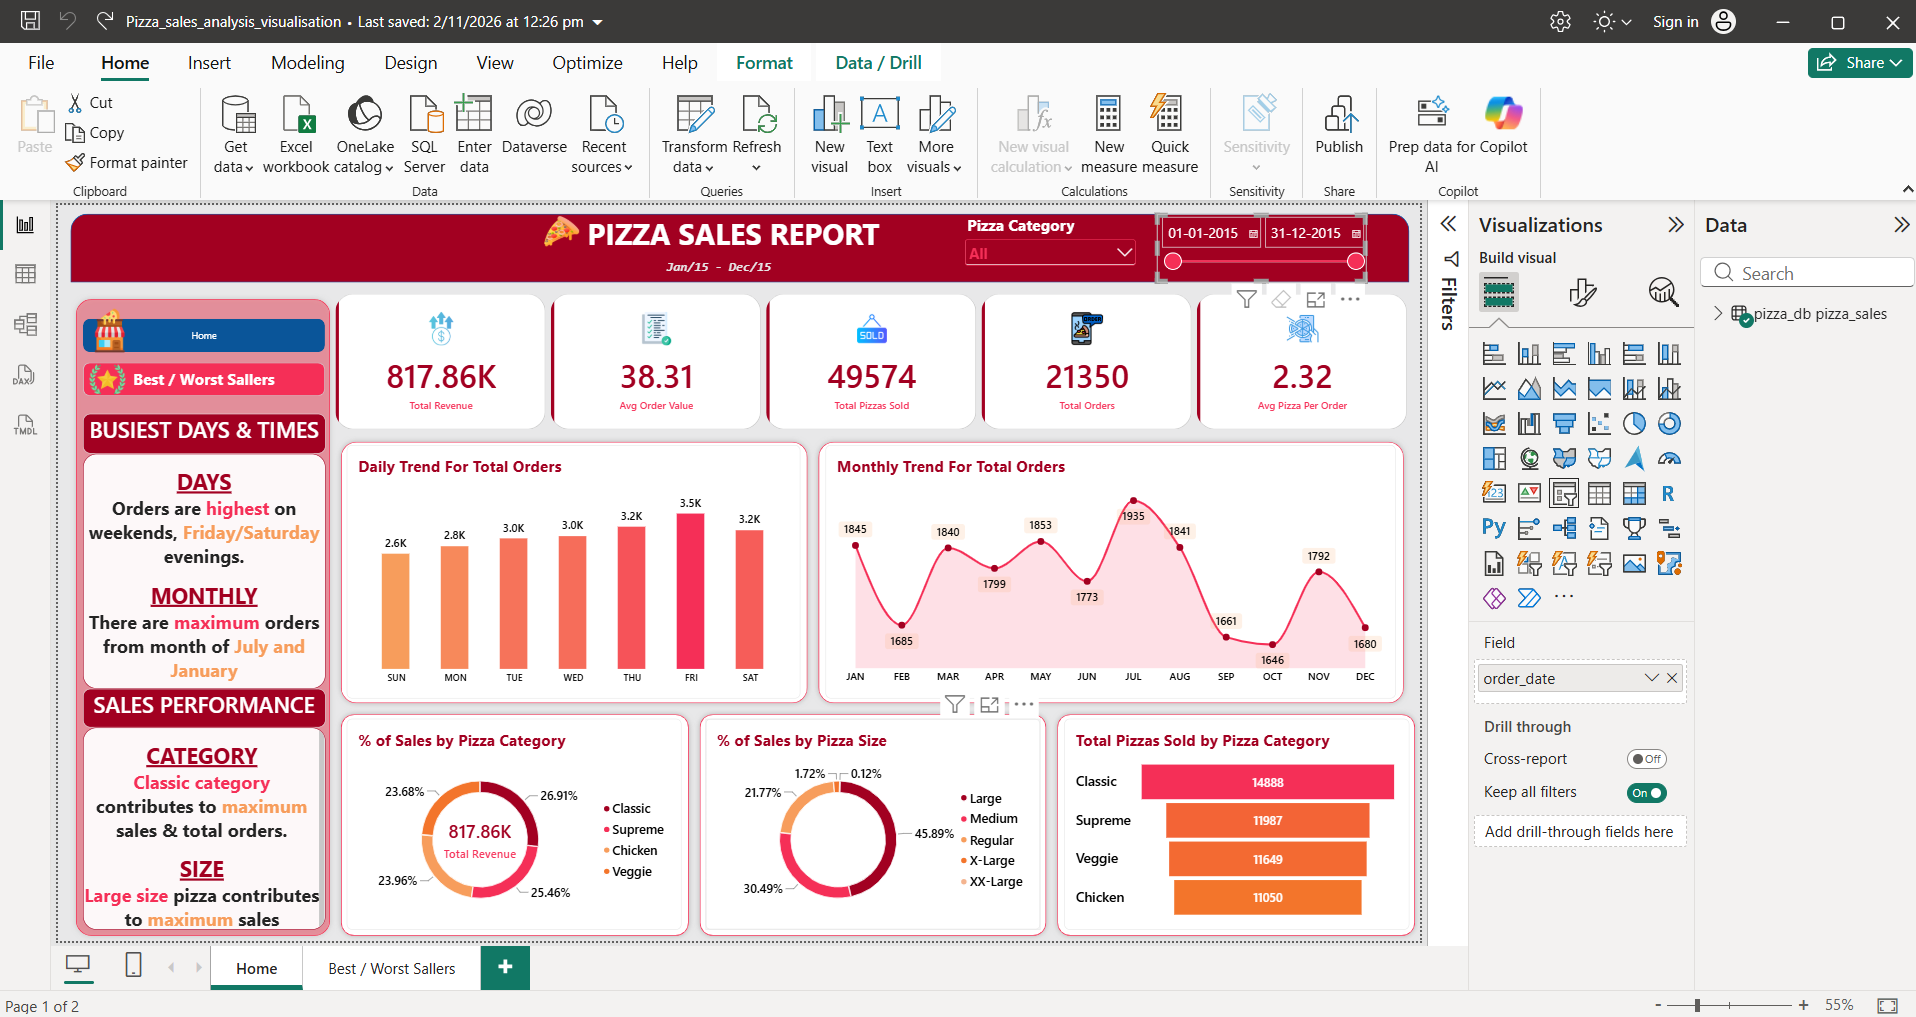

The dashboard page shown, as its layout file describes it:
{"tool":"powerbi","page":{"name":"Home","canvas":[2000,1080],"ordinal":0},"visuals":[{"type":"shape","box":[18.3,130.2,388.9,950.1],"z":0},{"type":"cardVisual","fields":{"Data":["pizza_db pizza_sales.Total Revenue","pizza_db pizza_sales.Avg Order Value","pizza_db pizza_sales.Total Pizzas Sold","pizza_db pizza_sales.Total Orders","pizza_db pizza_sales.Avg Pizza Per Order"]},"box":[407.2,130.2,1575.6,199.9],"z":1000},{"type":"shape","box":[18.3,12.8,1964.5,100.9],"z":2000},{"type":"textbox","box":[770.4,12.8,442.1,67.9],"z":3000},{"type":"textbox","box":[891.4,80.7,155.9,33],"z":4000},{"type":"image","box":[682.3,12.8,113.7,51.4],"z":5000},{"type":"shape","box":[407.2,339.3,700.7,399.9],"z":6000},{"type":"columnChart","title":"Daily Trend For Total Orders","fields":{"Category":["pizza_db pizza_sales.Order Day"],"Y":["pizza_db pizza_sales.Total Orders"]},"box":[423.7,352.2,665.8,372.4],"z":7000},{"type":"shape","box":[1107.9,339.3,874.9,399.9],"z":8000},{"type":"areaChart","title":"Monthly Trend For Total Orders","fields":{"Category":["pizza_db pizza_sales.Order Month"],"Y":["pizza_db pizza_sales.Total Orders"]},"box":[1126.2,352.2,836.4,372.4],"z":9000},{"type":"shape","box":[407.2,739.2,526.4,341.2],"z":10000},{"type":"shape","box":[933.6,739.2,524.6,341.2],"z":11000},{"type":"shape","box":[1458.2,739.2,541.1,341.2],"z":12000},{"type":"donutChart","title":"% of Sales by Pizza Category","fields":{"Category":["pizza_db pizza_sales.pizza_category"],"Y":["pizza_db pizza_sales.Total Revenue"]},"box":[423.7,753.9,491.6,310],"z":13000},{"type":"donutChart","title":"% of Sales by Pizza Size","fields":{"Category":["pizza_db pizza_sales.pizza_size"],"Y":["pizza_db pizza_sales.Total Revenue"]},"box":[950.1,753.9,491.6,310],"z":14000},{"type":"funnel","title":"Total Pizzas Sold by Pizza Category","fields":{"Category":["pizza_db pizza_sales.pizza_category"],"Y":["pizza_db pizza_sales.Total Pizzas Sold"]},"box":[1476.6,753.9,506.3,310],"z":15000},{"type":"textbox","box":[36.7,306.3,355.8,58.7],"z":16000},{"type":"textbox","box":[36.7,365,355.8,344.8],"z":17000},{"type":"textbox","box":[36.7,709.9,355.8,56.9],"z":18000},{"type":"textbox","box":[36.7,766.7,355.8,297.1],"z":19000},{"type":"slicer","fields":{"Values":["pizza_db pizza_sales.pizza_category"]},"box":[1326.2,12.8,260.5,100.9],"z":20000},{"type":"slicer","fields":{"Values":["pizza_db pizza_sales.order_date"]},"box":[1612.3,12.8,308.2,100.9],"z":21000},{"type":"pageNavigator","box":[36.7,166.9,355.8,49.5],"z":22000},{"type":"pageNavigator","box":[36.7,231.1,355.8,49.5],"z":23000},{"type":"image","box":[36.7,152.2,78.9,64.2],"z":24000},{"type":"image","box":[29.3,229.3,86.2,53.2],"z":25000}]}

Visuals, with their boxes on the page's 2000x1080 design canvas (x1, y1, x2, y2). These are canvas units, not pixel positions in the 1916x1017 screenshot, which may show the page scaled, cropped or inside an application window:
shape: bbox(18, 130, 407, 1080)
cardVisual - pizza_db pizza_sales.Total Revenue x pizza_db pizza_sales.Avg Order Value: bbox(407, 130, 1983, 330)
shape: bbox(18, 13, 1983, 114)
textbox: bbox(770, 13, 1212, 81)
textbox: bbox(891, 81, 1047, 114)
image: bbox(682, 13, 796, 64)
shape: bbox(407, 339, 1108, 739)
"Daily Trend For Total Orders" columnChart: bbox(424, 352, 1090, 725)
shape: bbox(1108, 339, 1983, 739)
"Monthly Trend For Total Orders" areaChart: bbox(1126, 352, 1963, 725)
shape: bbox(407, 739, 934, 1080)
shape: bbox(934, 739, 1458, 1080)
shape: bbox(1458, 739, 1999, 1080)
"% of Sales by Pizza Category" donutChart: bbox(424, 754, 915, 1064)
"% of Sales by Pizza Size" donutChart: bbox(950, 754, 1442, 1064)
"Total Pizzas Sold by Pizza Category" funnel: bbox(1477, 754, 1983, 1064)
textbox: bbox(37, 306, 392, 365)
textbox: bbox(37, 365, 392, 710)
textbox: bbox(37, 710, 392, 767)
textbox: bbox(37, 767, 392, 1064)
slicer - pizza_db pizza_sales.pizza_category: bbox(1326, 13, 1587, 114)
slicer - pizza_db pizza_sales.order_date: bbox(1612, 13, 1920, 114)
pageNavigator: bbox(37, 167, 392, 216)
pageNavigator: bbox(37, 231, 392, 281)
image: bbox(37, 152, 116, 216)
image: bbox(29, 229, 116, 282)
